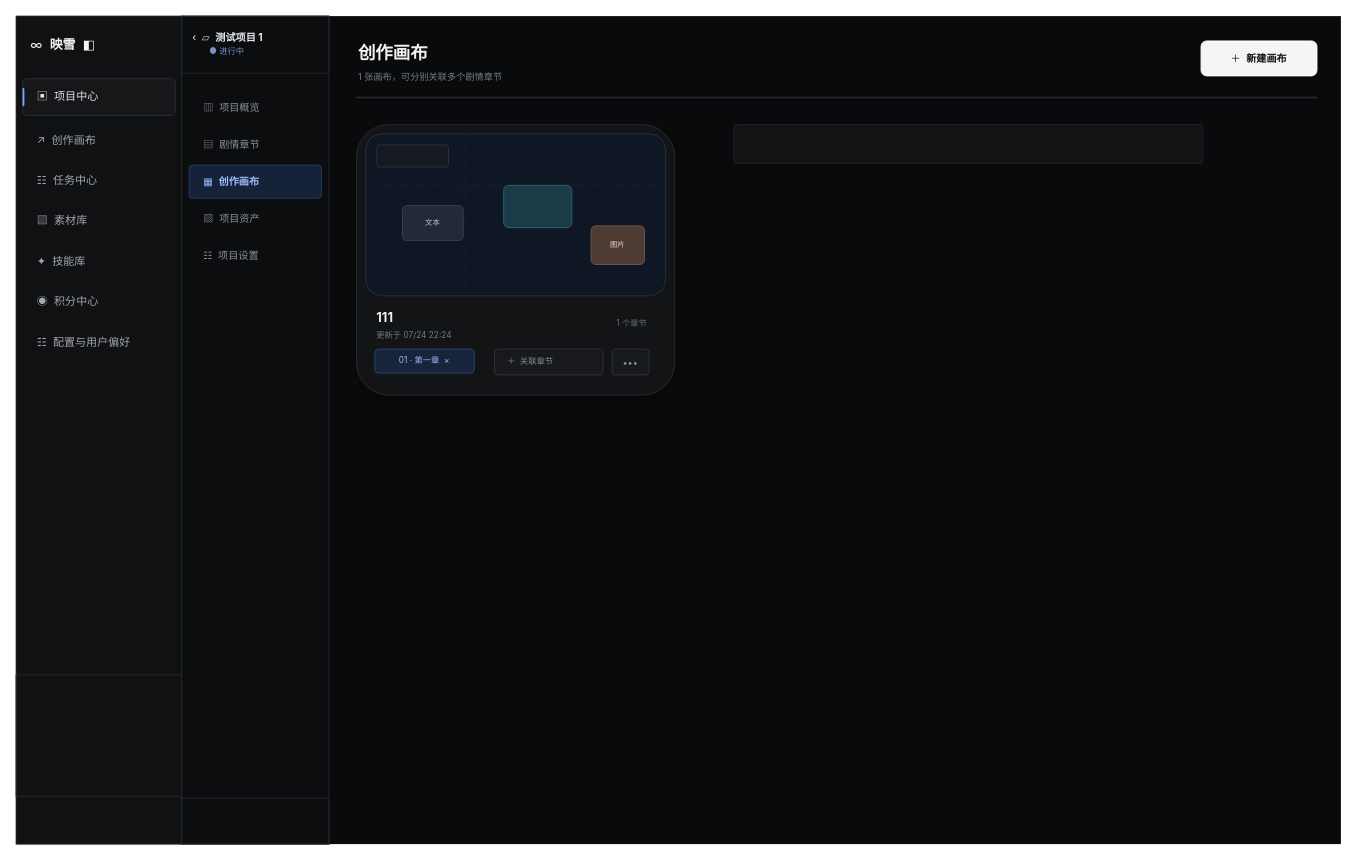
This 1357x860 diagram has some shape labels left out. The shapes that lost their labels are listed below. From the top down, each one's centre as x and y in pixels, then its label:
At [412,155]: "▦ 画布 01".
At [968,143]: "布局未变 · 默认态优化：真实节点预览、分层表面、统一描边、单一蓝色交互色、管理动作降噪。".
At [537,206]: "分镜".
At [98,735]: "◐ 深色模式 ● ♢ 系统公告 ▤ 更新日志".
At [255,820]: "9:16 · 导入小说".
